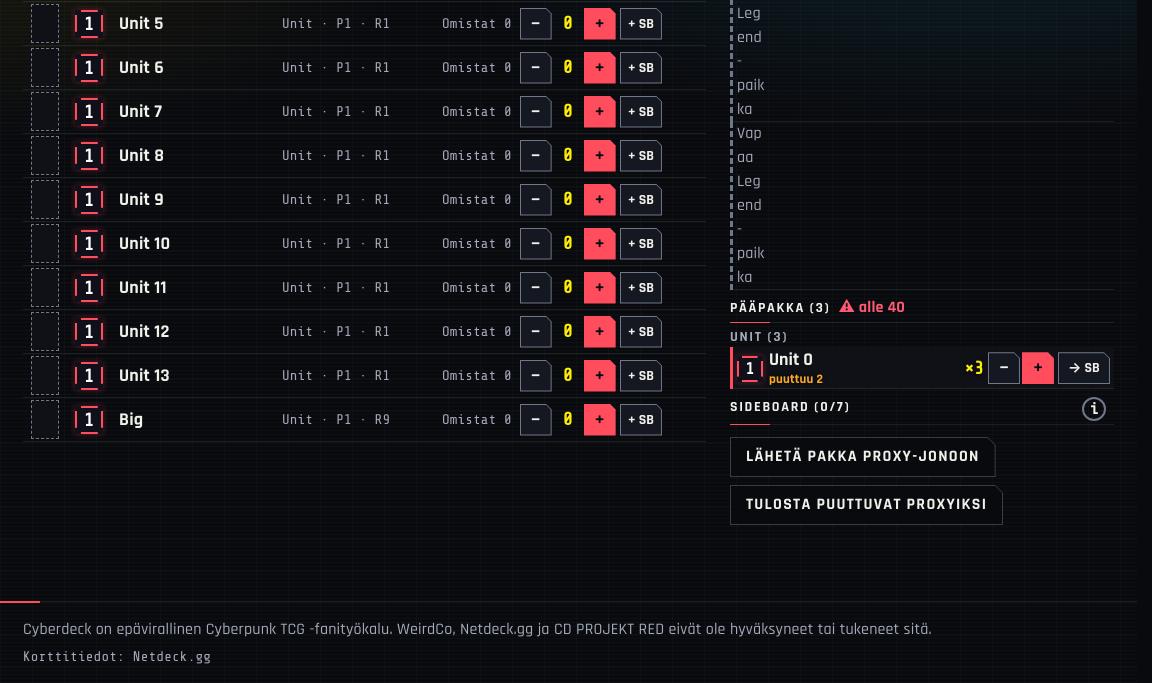
Test case: Deck column › shows a main deck tile with copies, the stepper and the missing copies
(page scrolled)
expect the list item named "Suurenna kuva: Unit 0" shows "×3": met, box 964,358 -> 984,378
expect the list item named "Suurenna kuva: Unit 0" shows "puuttuu 2": met, box 769,372 -> 823,388
Click the button named "Poista pakasta: Unit 0". click: click(1004, 368)
box: 988,352 -> 1020,384
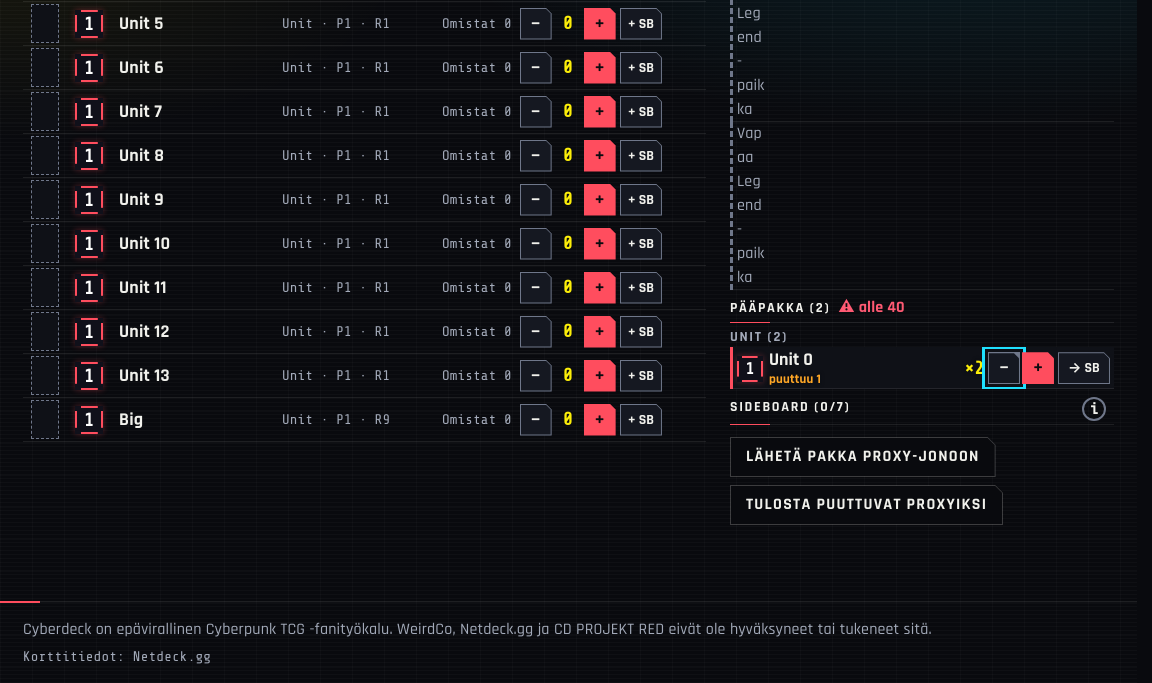
expect the list item named "Suurenna kuva: Unit 0" shows "×2": met, box 964,358 -> 984,378
